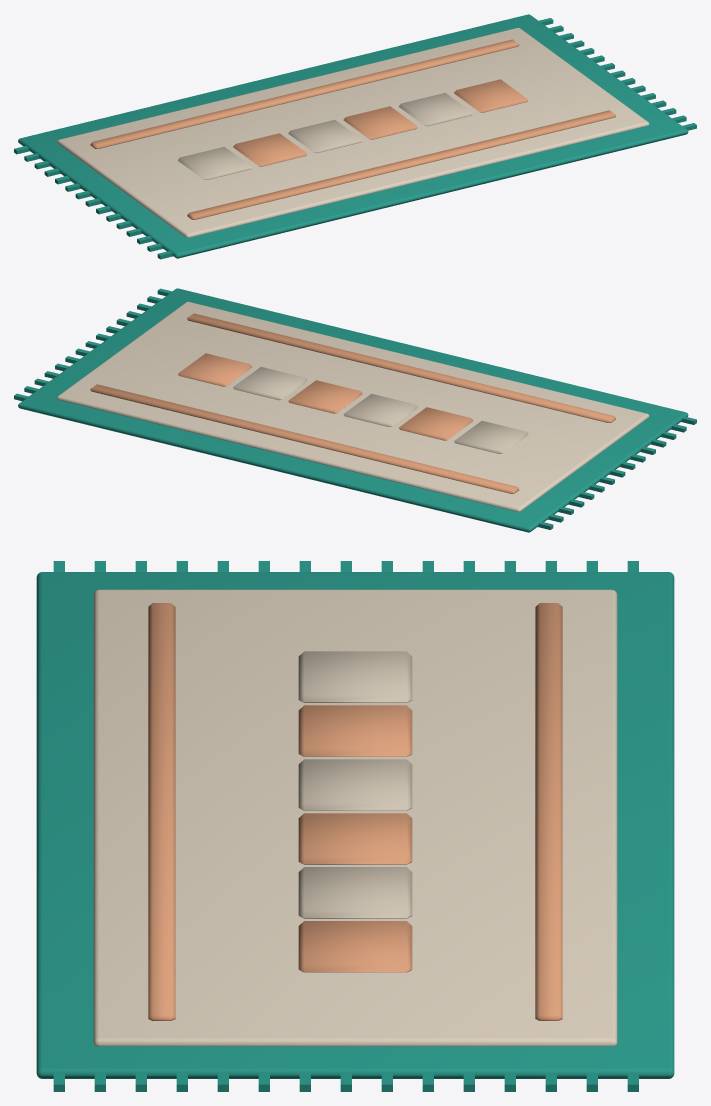
The model's file is f_rug_bakery.glb.
3 views of the same model, one above another, from view 1: azimuth 30°, elevation 25°; view 2: azimuth 150°, elevation 25°; view 3: azimuth 270°, elevation 25° (orthographic). The views are drawn at different scales.
Visible parts, largest first — view 1: f_rug_bakery; view 2: f_rug_bakery; view 3: f_rug_bakery.
Part boxes in pixels (left/top/right/bottom): f_rug_bakery: left=14, top=14, right=696, bottom=259; f_rug_bakery: left=14, top=288, right=696, bottom=532; f_rug_bakery: left=36, top=561, right=674, bottom=1091.
Bounding box in the file's own units: 5.44 × 0.11 × 2.8.
